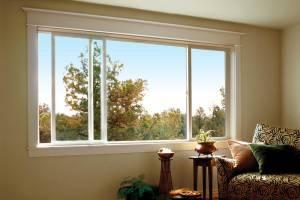window: (25, 8, 243, 147)
